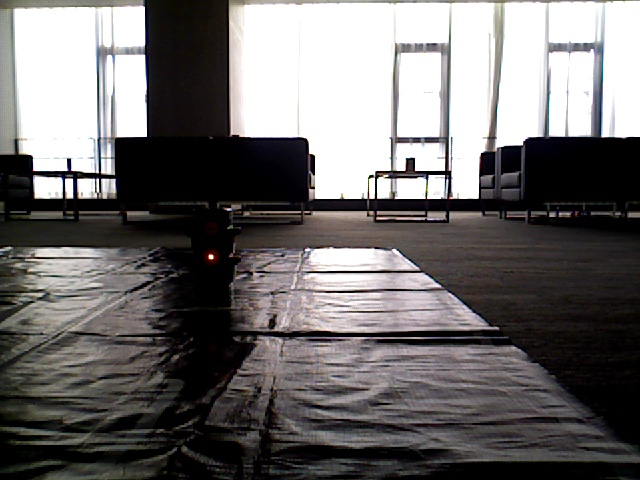yellow: (192, 204, 229, 290)
